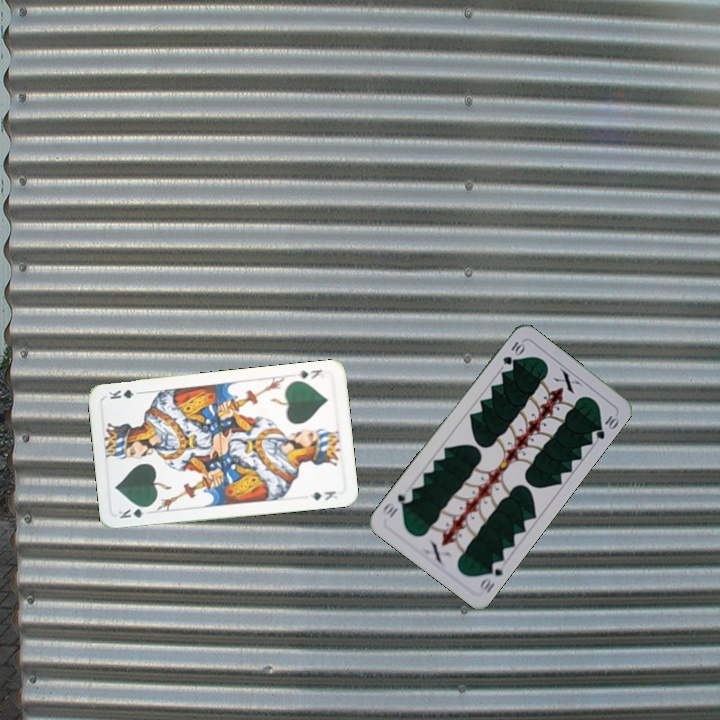G10: (476, 557, 508, 596), (499, 337, 527, 368)
GK: (114, 502, 155, 521), (293, 365, 324, 382)
